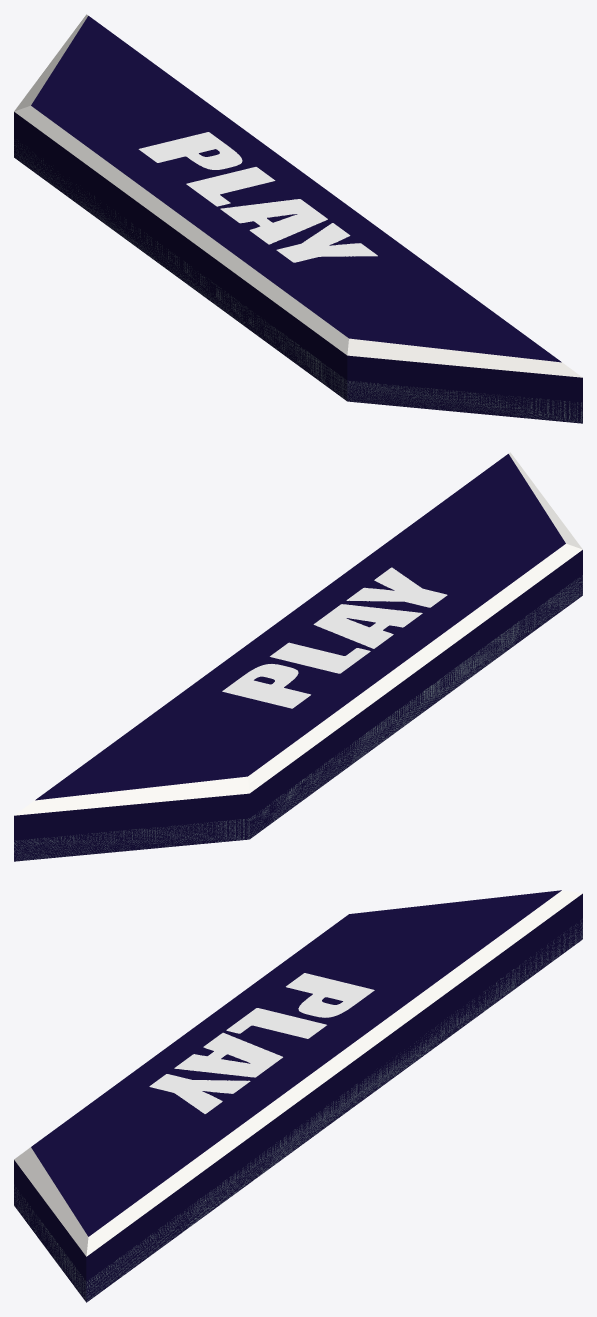
File: PlayButton.fbx
3 renders of one model, top to bottom at view 1: azimuth 30°, elevation 25°; view 2: azimuth 150°, elevation 25°; view 3: azimuth 330°, elevation 25°, orthographic.
Visible parts, largest first — view 1: PlayButton, PlayButtonPressed; view 2: PlayButton, PlayButtonPressed; view 3: PlayButton, PlayButtonPressed.
Boxes of the visible parts, left/top/right/bottom form: PlayButton: left=14, top=14, right=582, bottom=423; PlayButtonPressed: left=14, top=141, right=582, bottom=423; PlayButton: left=14, top=452, right=582, bottom=861; PlayButtonPressed: left=14, top=575, right=582, bottom=861; PlayButton: left=14, top=890, right=582, bottom=1302; PlayButtonPressed: left=14, top=919, right=582, bottom=1301.
Bounding box in the file's own units: 0.7952 × 0.2945 × 4.44.
